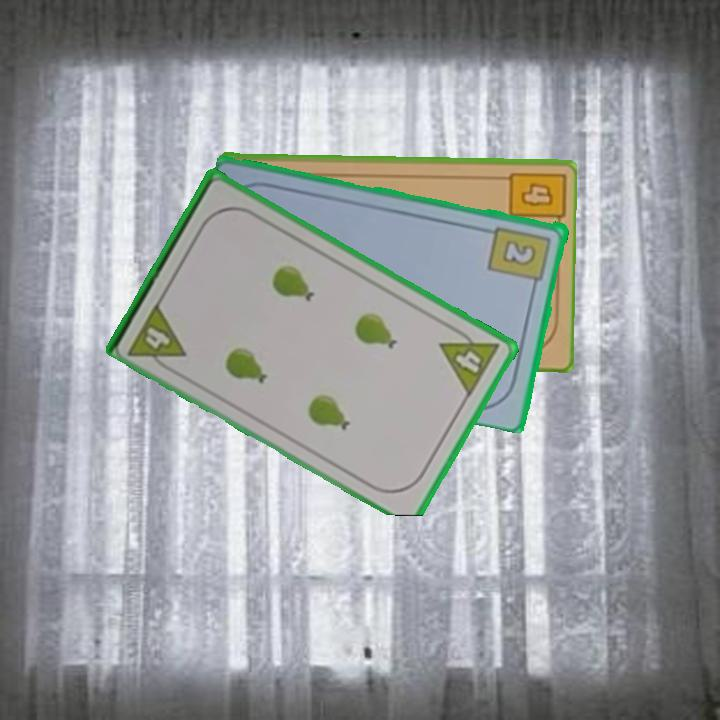2b: (486, 222, 554, 292)
4b: (518, 178, 557, 209)
4p: (436, 321, 503, 399), (124, 298, 189, 376)
